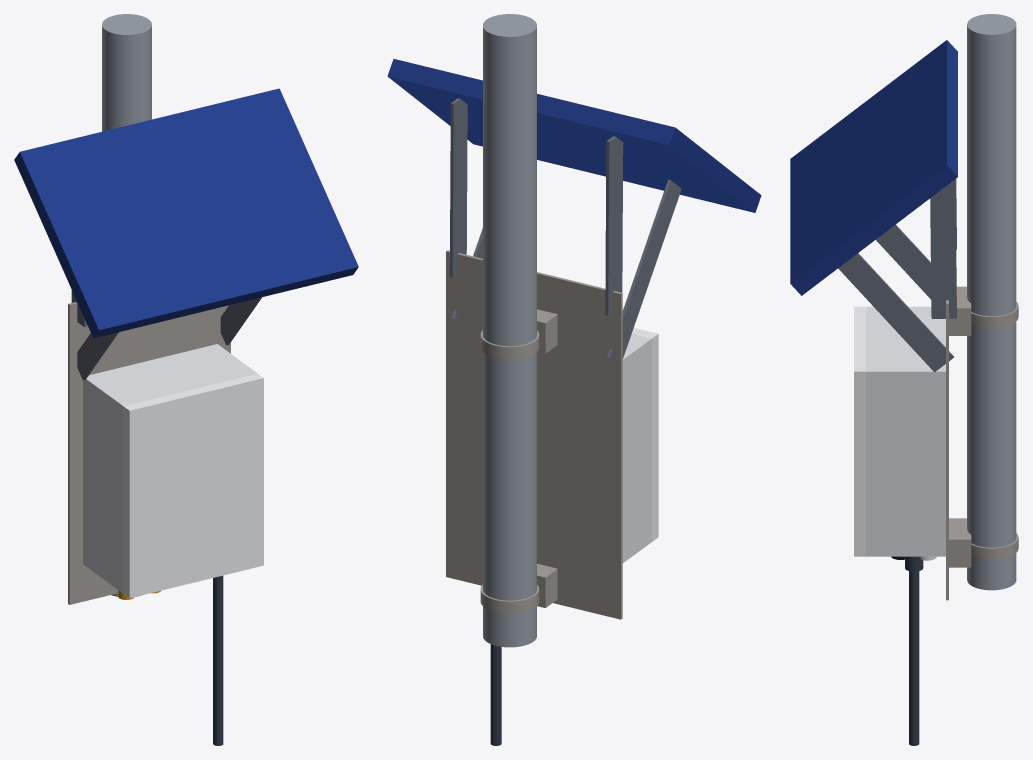
The picture shows the model from 3 angles, left to right: view 1: azimuth 30°, elevation 25°; view 2: azimuth 150°, elevation 25°; view 3: azimuth 270°, elevation 25°; orthographic projection. The views are drawn at different scales.
Parts seen in each view (by area): view 1: Solar panel, 6 W, Enclosure lid with gasket, Enclosure body with membrane vent, Pole mounting kit, Pole, 48 mm OD (site supplied), Panel tilt bracket, Antenna, sub-GHz whip; view 2: Pole mounting kit, Pole, 48 mm OD (site supplied), Solar panel, 6 W, Panel tilt bracket, Enclosure body with membrane vent, Enclosure lid with gasket, Antenna, sub-GHz whip; view 3: Pole, 48 mm OD (site supplied), Solar panel, 6 W, Enclosure body with membrane vent, Panel tilt bracket, Pole mounting kit, Enclosure lid with gasket, Antenna, sub-GHz whip.
Part boxes in pixels (x1,y1,x2,y2): Solar panel, 6 W: [14, 88, 358, 338]; Enclosure lid with gasket: [123, 373, 263, 598]; Enclosure body with membrane vent: [83, 344, 257, 593]; Pole mounting kit: [68, 302, 230, 604]; Pole, 48 mm OD (site supplied): [102, 14, 151, 596]; Panel tilt bracket: [71, 290, 261, 380]; Antenna, sub-GHz whip: [213, 575, 223, 745]; Pole mounting kit: [446, 250, 622, 619]; Pole, 48 mm OD (site supplied): [483, 14, 536, 647]; Solar panel, 6 W: [387, 59, 761, 212]; Panel tilt bracket: [449, 98, 681, 359]; Enclosure body with membrane vent: [622, 334, 651, 562]; Enclosure lid with gasket: [632, 328, 658, 541]; Antenna, sub-GHz whip: [490, 644, 501, 745]; Pole, 48 mm OD (site supplied): [967, 14, 1016, 590]; Solar panel, 6 W: [790, 40, 957, 295]; Enclosure body with membrane vent: [866, 306, 945, 560]; Panel tilt bracket: [838, 179, 956, 372]; Pole mounting kit: [946, 286, 1018, 600]; Enclosure lid with gasket: [854, 306, 865, 556]; Antenna, sub-GHz whip: [905, 556, 923, 745].
Bounding box in the file's own units: 0.29 × 0.75 × 0.2232.
